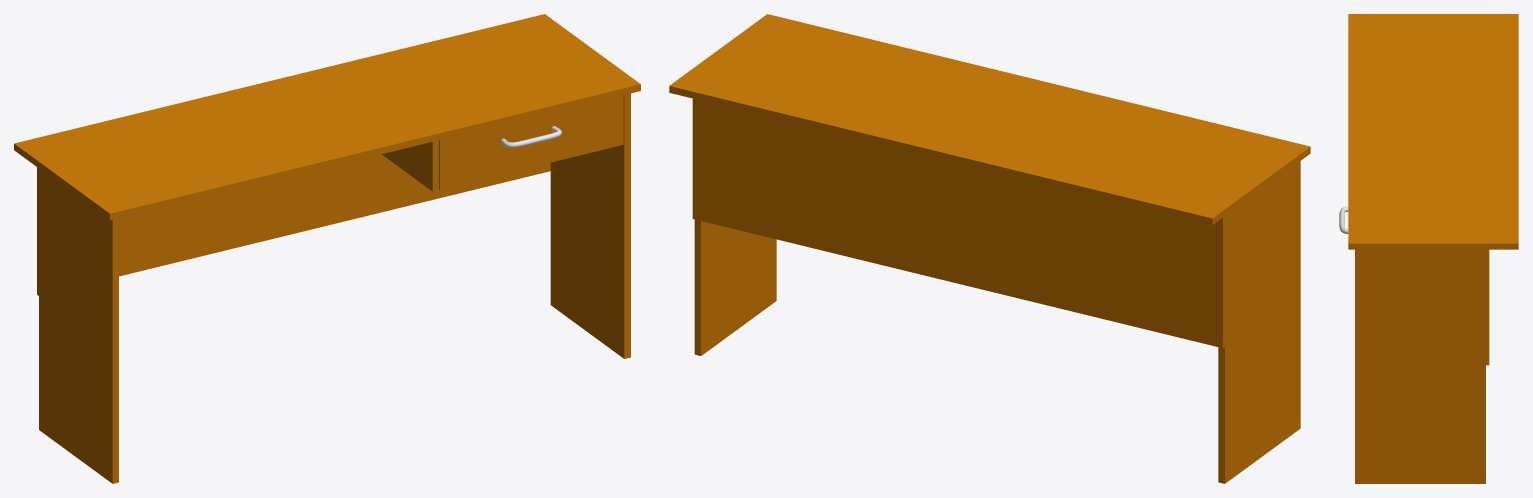
File: Sparedesk.fbx
The picture shows the model from 3 angles, left to right: view 1: azimuth 30°, elevation 25°; view 2: azimuth 150°, elevation 25°; view 3: azimuth 270°, elevation 25°; orthographic projection. The views are drawn at different scales.
Visible parts, largest first — view 1: Cube.011, Cube.012; view 2: Cube.011; view 3: Cube.011.
Boxes of the visible parts, box(x1,y1,x2,y2) form: Cube.011: box(14, 14, 640, 483); Cube.012: box(439, 95, 623, 189); Cube.011: box(669, 14, 1310, 483); Cube.011: box(1348, 14, 1518, 483).
Bounding box in the file's own units: 12.45 × 6.15 × 4.11.
